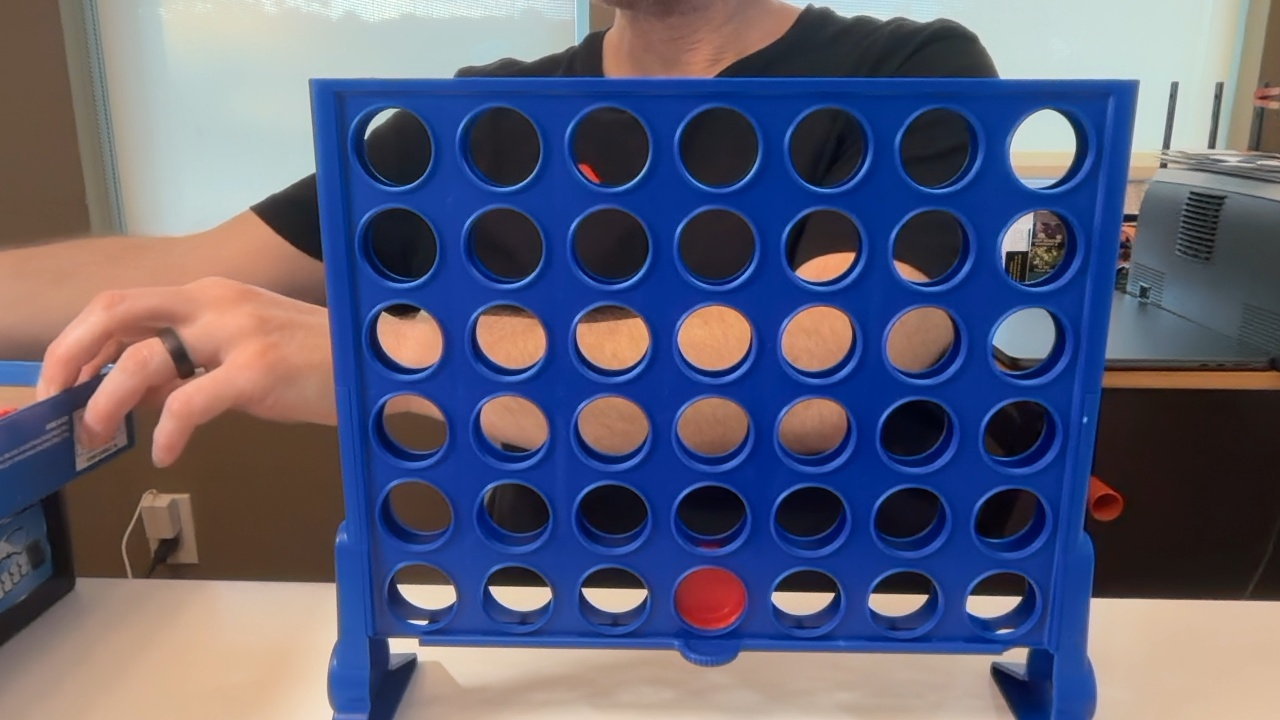red piece: (675, 567, 746, 631)
